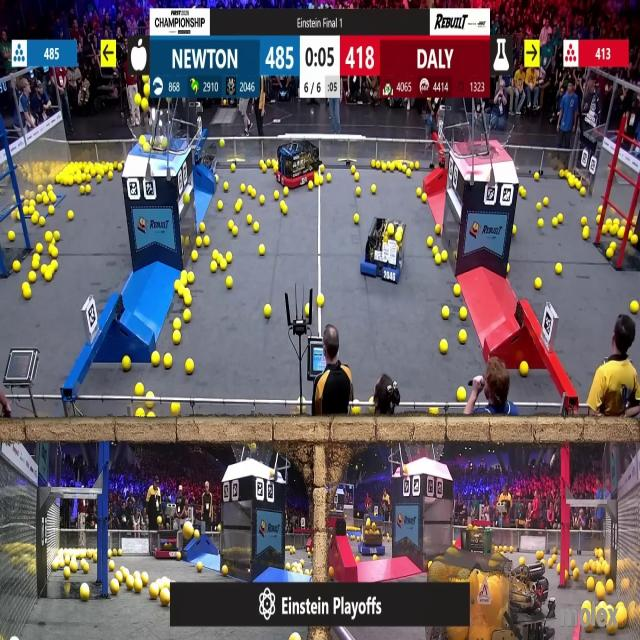ball_airborne: (141, 99, 148, 110), (143, 86, 149, 98), (163, 138, 169, 150), (143, 143, 149, 152), (135, 95, 141, 104), (140, 136, 146, 144), (142, 75, 148, 82)
ball_ground: (617, 610, 628, 630), (161, 591, 171, 607), (80, 586, 89, 602), (23, 283, 32, 299), (596, 586, 606, 600), (606, 623, 616, 636), (457, 387, 466, 401), (110, 581, 119, 595), (151, 352, 159, 367), (122, 356, 130, 370), (521, 361, 529, 375), (185, 359, 193, 373), (165, 354, 173, 368), (172, 404, 180, 418), (149, 586, 157, 600), (441, 341, 449, 354), (459, 331, 467, 344), (605, 582, 613, 595), (630, 302, 638, 314), (136, 384, 144, 396), (443, 307, 451, 319), (173, 332, 181, 344), (32, 260, 40, 272), (141, 572, 149, 584), (588, 579, 595, 592), (134, 583, 142, 594), (556, 264, 563, 276), (183, 310, 190, 322), (534, 278, 541, 290), (29, 272, 36, 284), (460, 308, 467, 320), (317, 294, 324, 306), (127, 577, 134, 589), (603, 564, 610, 576), (48, 247, 56, 257), (137, 409, 145, 419), (225, 278, 232, 289), (211, 263, 218, 274), (183, 294, 190, 305), (12, 262, 19, 273), (619, 228, 626, 239), (183, 192, 190, 203), (568, 177, 575, 188), (266, 306, 272, 318), (86, 174, 94, 183), (258, 245, 265, 255), (225, 252, 232, 262), (219, 262, 226, 272), (606, 249, 613, 259), (174, 319, 181, 329), (36, 244, 43, 254), (44, 272, 51, 282), (44, 233, 51, 243), (108, 561, 115, 571), (571, 568, 578, 578), (75, 174, 82, 184), (116, 572, 123, 582), (434, 223, 440, 234), (187, 273, 193, 284), (454, 284, 460, 295), (584, 229, 590, 240), (221, 565, 227, 576), (50, 262, 56, 273), (236, 202, 242, 213), (64, 567, 70, 578), (198, 562, 204, 573), (632, 236, 638, 247), (82, 562, 88, 573), (430, 409, 438, 417), (352, 409, 360, 417), (584, 600, 591, 609), (113, 163, 120, 172), (204, 237, 210, 247), (217, 201, 223, 211), (68, 210, 74, 220), (434, 254, 440, 264), (195, 238, 201, 248), (246, 214, 252, 224), (32, 214, 38, 224), (212, 250, 218, 260), (601, 224, 607, 234), (252, 221, 258, 231), (443, 252, 449, 262), (175, 279, 181, 289), (49, 192, 55, 202), (44, 196, 50, 206), (40, 265, 46, 275), (33, 195, 39, 205), (193, 528, 199, 538), (180, 272, 187, 280), (317, 176, 324, 184), (146, 390, 153, 398), (183, 287, 190, 295), (328, 567, 333, 578), (8, 233, 14, 242), (282, 206, 288, 215), (200, 222, 206, 231), (274, 190, 280, 199), (55, 233, 61, 242), (39, 217, 45, 226), (178, 287, 184, 296), (579, 217, 585, 226), (227, 220, 233, 229), (87, 184, 93, 193), (536, 552, 542, 561), (68, 178, 74, 187), (428, 238, 433, 248), (354, 214, 359, 224), (191, 251, 196, 261), (585, 563, 590, 573), (147, 413, 154, 420), (146, 400, 153, 407), (542, 199, 548, 207), (534, 173, 540, 181), (609, 242, 615, 250), (354, 174, 360, 182), (579, 187, 585, 195), (570, 560, 576, 568), (588, 625, 594, 633), (556, 566, 562, 574), (370, 184, 375, 193), (538, 218, 543, 227), (259, 197, 264, 206), (79, 184, 84, 193), (422, 195, 427, 204), (233, 226, 238, 235), (559, 214, 564, 223), (247, 185, 252, 194), (263, 164, 268, 173), (306, 305, 310, 316), (596, 216, 602, 223), (250, 190, 256, 197), (599, 602, 606, 608), (24, 208, 30, 215), (598, 207, 604, 214), (48, 207, 53, 215), (309, 182, 314, 190), (241, 184, 246, 192), (356, 186, 360, 196), (284, 187, 289, 195), (553, 218, 558, 226), (326, 174, 331, 182), (513, 225, 518, 233), (536, 204, 541, 212), (432, 247, 437, 255), (408, 170, 413, 178), (108, 172, 113, 180), (320, 166, 325, 174), (351, 166, 356, 174), (547, 560, 552, 568), (370, 161, 375, 169), (108, 551, 113, 559), (564, 569, 569, 577), (81, 174, 86, 182), (120, 550, 125, 558), (418, 187, 422, 196), (232, 165, 237, 172), (520, 558, 525, 565), (47, 184, 52, 191), (584, 617, 589, 624), (223, 182, 227, 190), (98, 175, 102, 183), (522, 189, 526, 197), (416, 163, 420, 171), (306, 568, 310, 576), (220, 140, 224, 148), (560, 170, 564, 178), (120, 162, 124, 170), (553, 554, 557, 562), (402, 166, 406, 174), (371, 556, 376, 562), (568, 550, 572, 557), (268, 161, 272, 168), (506, 266, 509, 275), (356, 557, 360, 563), (178, 554, 182, 560), (216, 176, 220, 182), (351, 536, 356, 540)
goal: (460, 118, 517, 158), (122, 118, 186, 153)
robot_blue: (363, 220, 406, 284), (186, 138, 220, 177), (360, 520, 388, 556)
robot_red: (275, 137, 320, 188), (152, 527, 183, 557)
